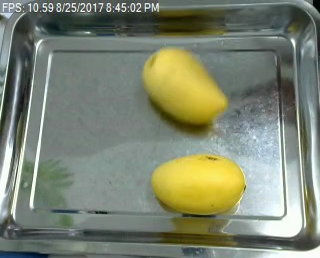Mango: (142, 41, 226, 125), (151, 151, 248, 216)
